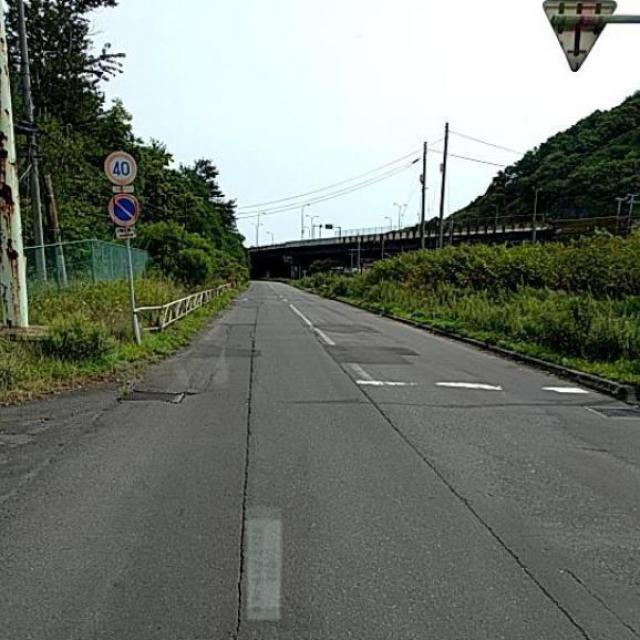Memanjang: (302, 314, 602, 640), (225, 300, 266, 640)
